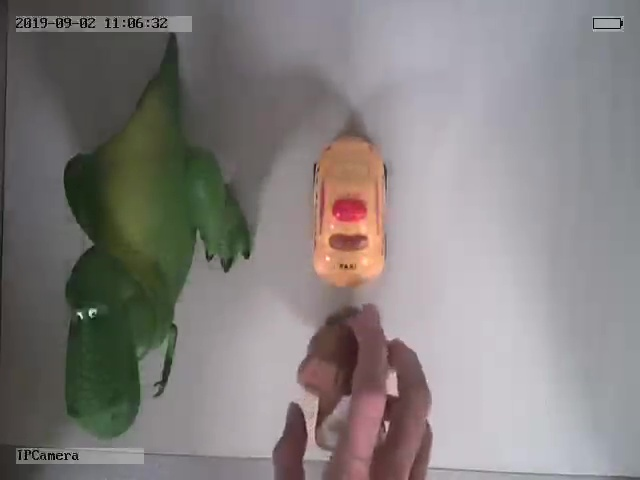car: (310, 131, 390, 287)
rex: (63, 47, 252, 441)
